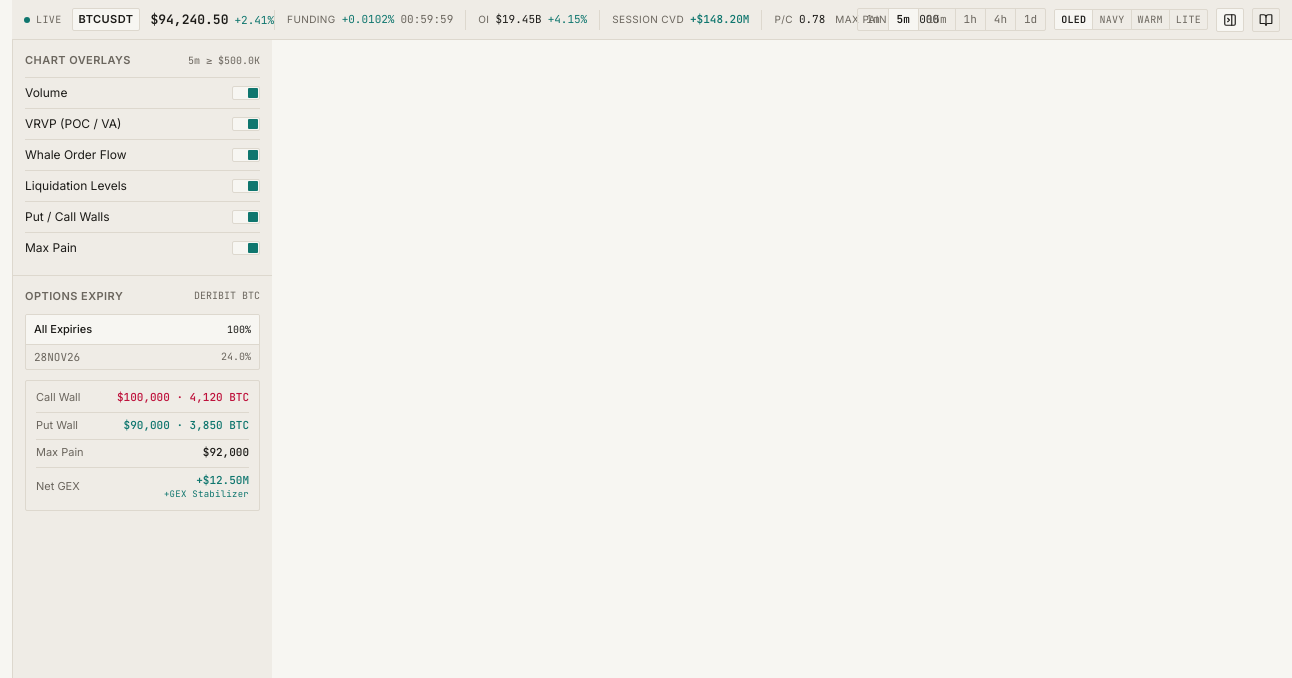
Test: Phase 3 Institutional Shell & Collapsible Legend/Guide Panes › keeps Legend sections collapsed by default, shrinks Legend to 160px rail, and collapses ControlDrawer when 3x Full Guide opens
The width and height of the screenshot is (1292, 678).
Click the button named "Expand legend pane". click: (1266, 20)
box: x1=1252 y1=8 x2=1280 y2=32
(page scrolled)
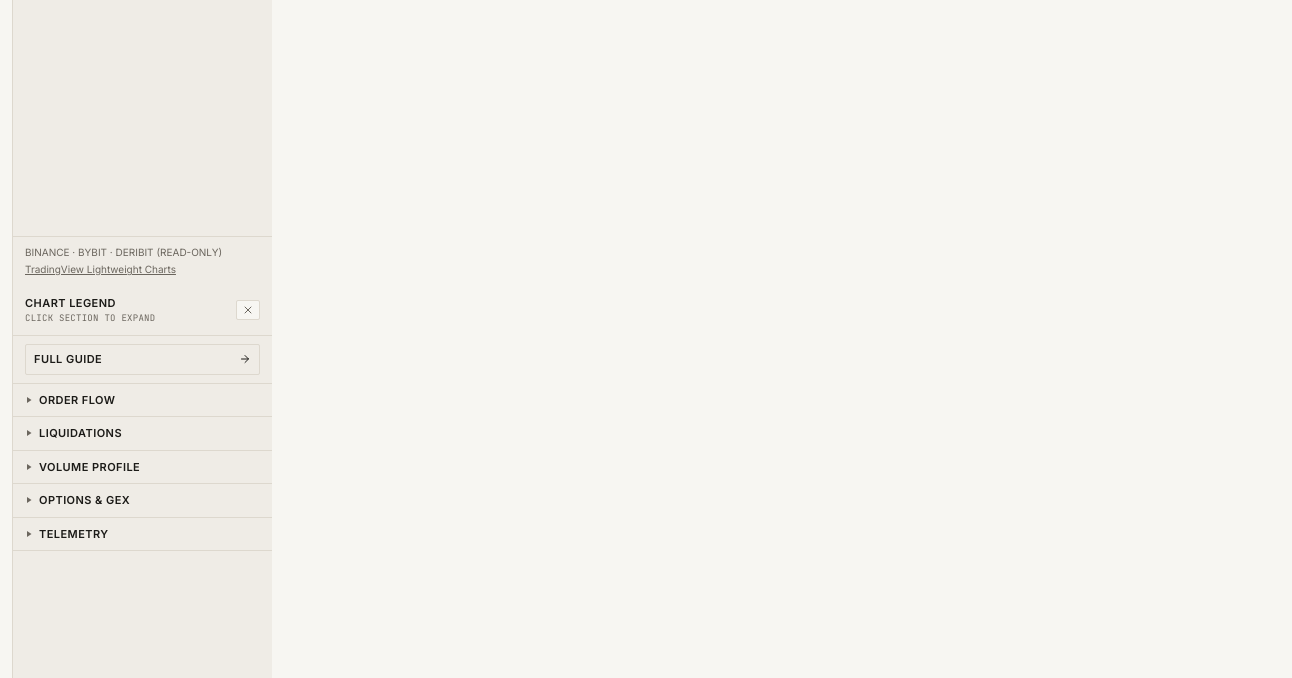
Expected: the text "Round Circles — Whale Sweeps" is not shown
Click the button "Order Flow". click: (142, 400)
box: x1=13 y1=384 x2=272 y2=416
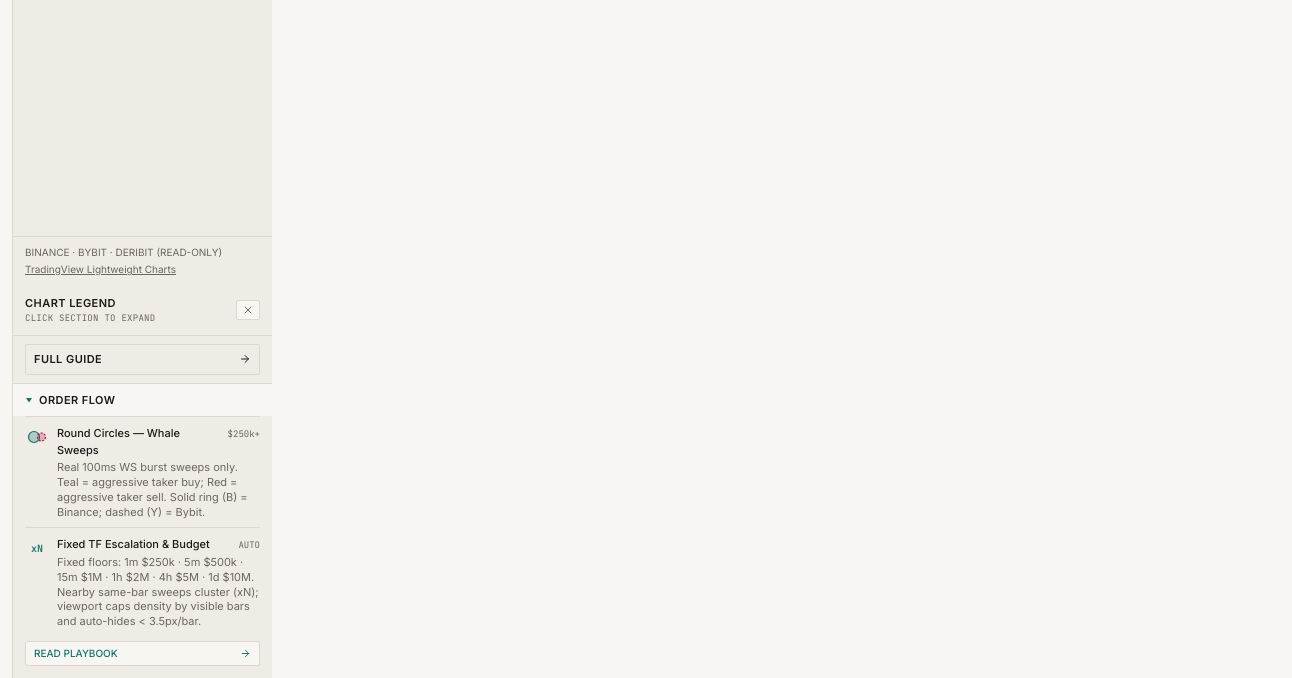
Result: the text "Round Circles — Whale Sweeps" is shown at x1=57 y1=426 x2=180 y2=456
Click the button with aria-label "Open full guide pane". click: (142, 359)
box: x1=25 y1=344 x2=260 y2=374
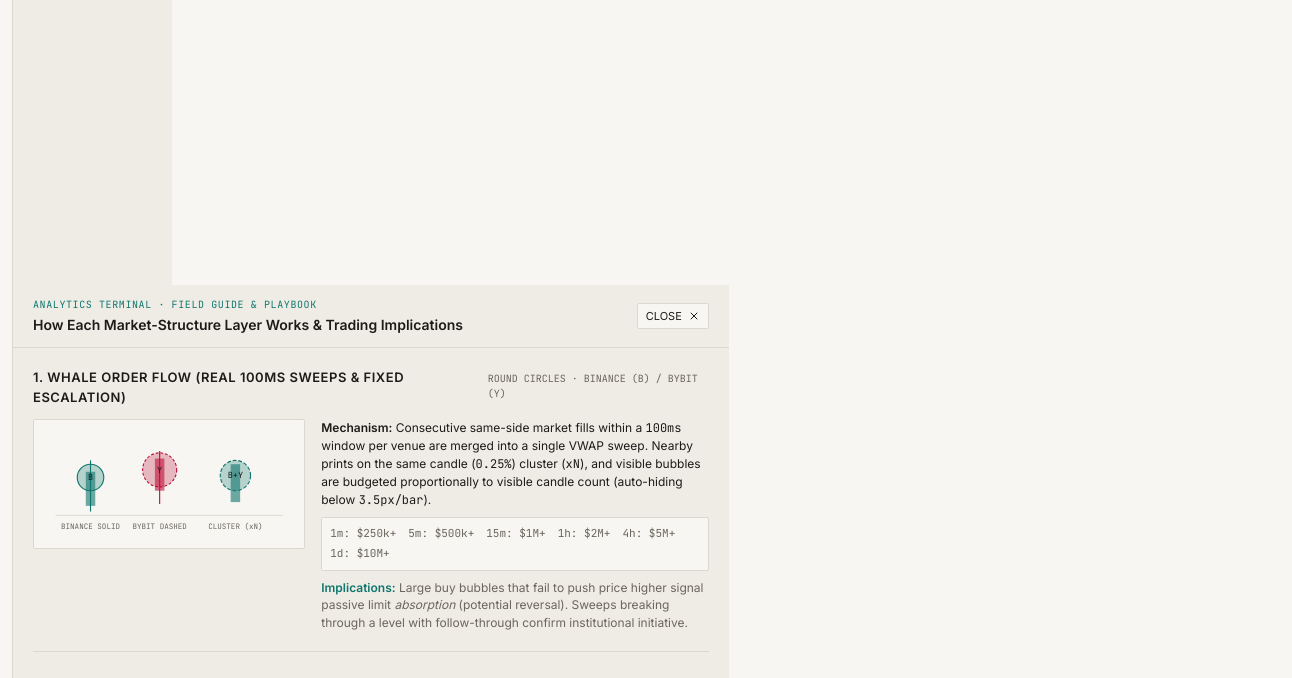
Result: the heading "1. Whale Order Flow (Real 100ms Sweeps & Fixed Escalation)" is shown at x1=33 y1=369 x2=404 y2=404
